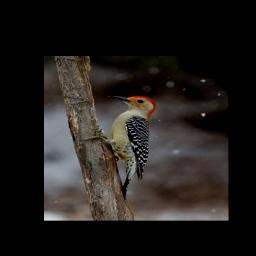Woodpecker: (80, 95, 156, 199)
